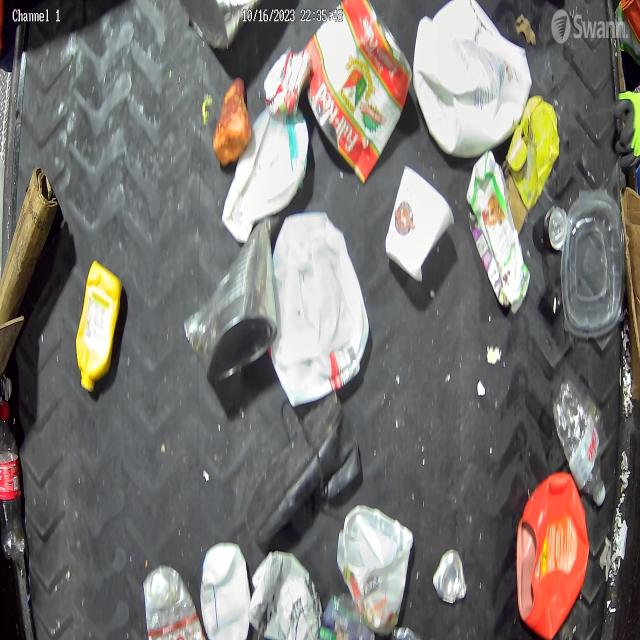can: (184, 216, 278, 384), (264, 45, 310, 118), (433, 547, 467, 607), (542, 205, 568, 252)
milk_jug: (272, 208, 369, 404), (413, 0, 531, 158), (221, 102, 309, 244)
non_white_jug: (515, 469, 592, 639), (466, 150, 530, 314), (75, 258, 122, 392)
plastic_bottle: (551, 378, 609, 507), (143, 565, 206, 640), (0, 408, 22, 555)
